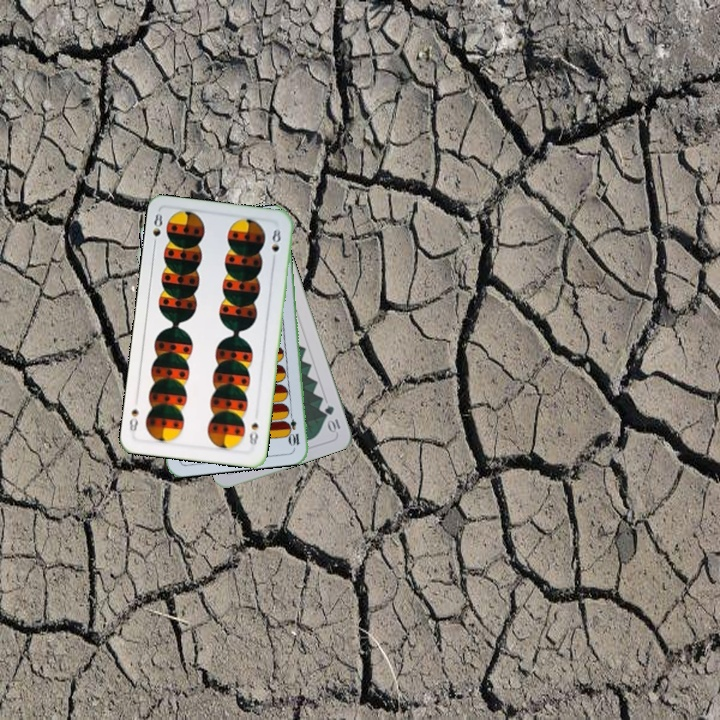E10: (285, 408, 302, 448)
G10: (321, 401, 343, 435)
S8: (149, 210, 165, 250), (245, 419, 261, 448)
